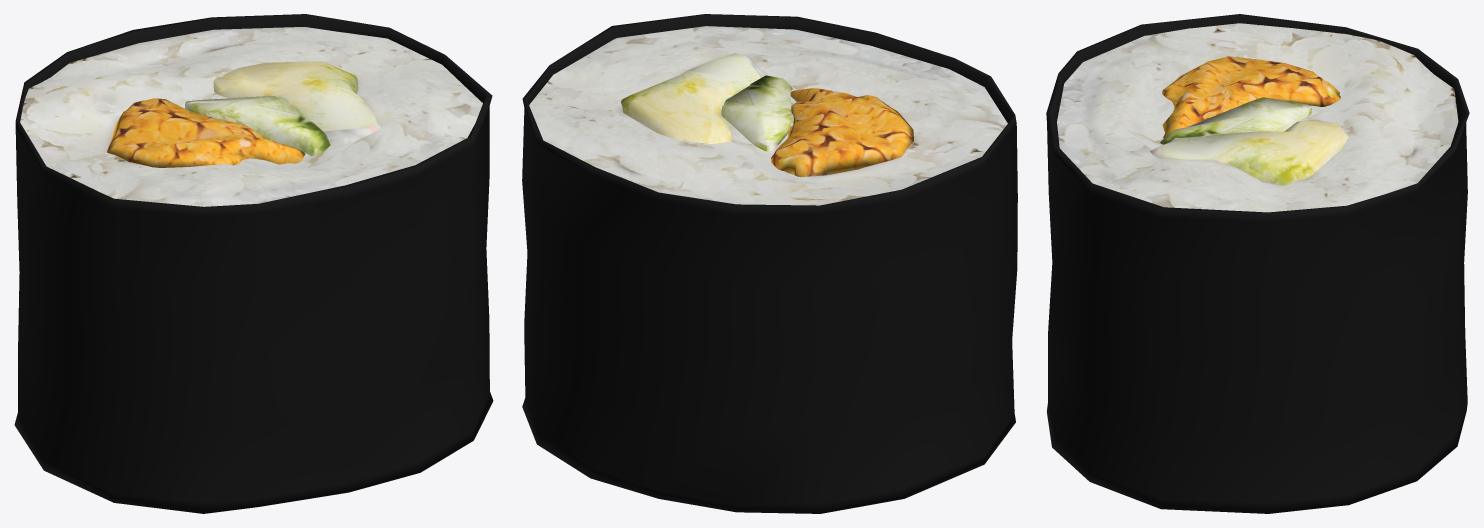
Rendered from Sushi.fbx.
The picture shows the model from 3 angles, left to right: view 1: azimuth 30°, elevation 25°; view 2: azimuth 150°, elevation 25°; view 3: azimuth 270°, elevation 25°; orthographic projection. The views are drawn at different scales.
Parts seen in each view (by area): view 1: Sushi; view 2: Sushi; view 3: Sushi.
Boxes of the visible parts, x1=… form: Sushi: x1=14, y1=14, x2=493, y2=513; Sushi: x1=522, y1=14, x2=1017, y2=513; Sushi: x1=1046, y1=14, x2=1469, y2=513.
Size of the model in its own units: 5.54 by 4.06 by 4.92.
1 material, 1 textured.
